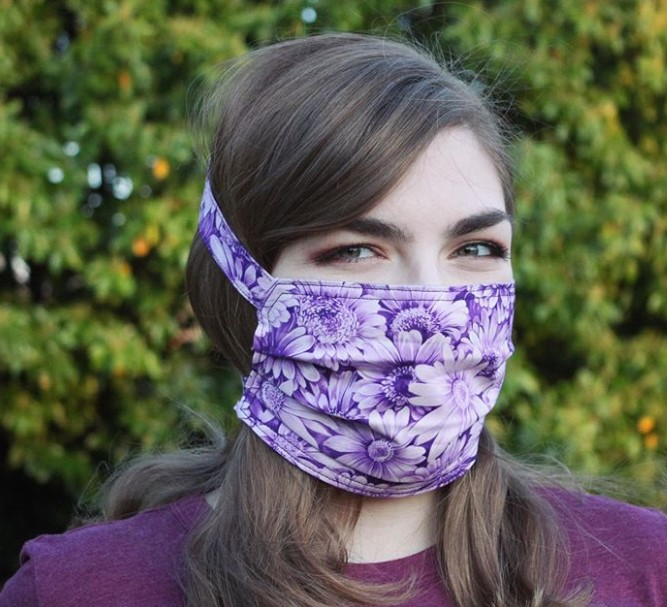face_with_mask: (191, 69, 525, 497)
